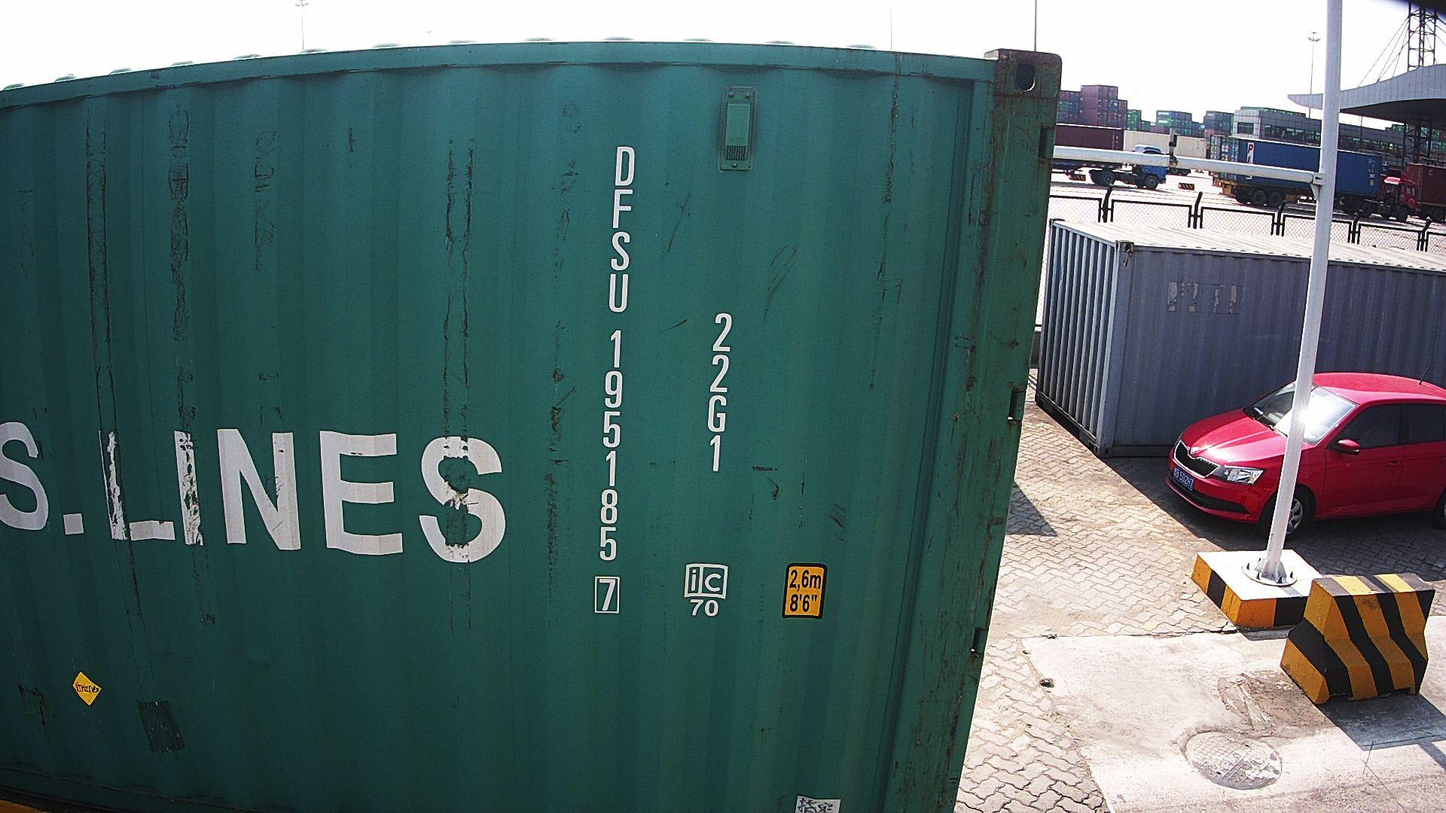container-numbers: (587, 138, 639, 623), (700, 308, 739, 482)
